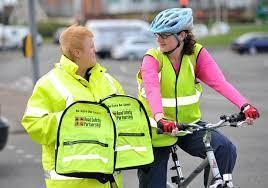Vest: (144, 46, 204, 127)
